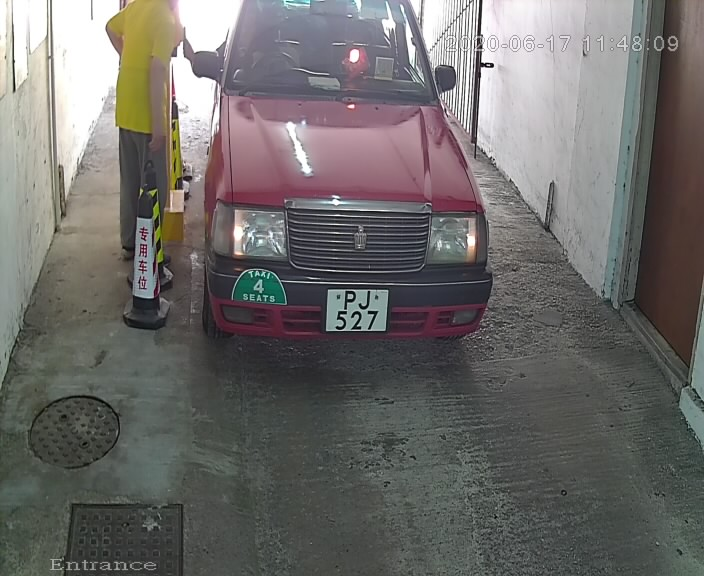taxi: (186, 2, 509, 383)
taxi_mark: (229, 266, 290, 313)
